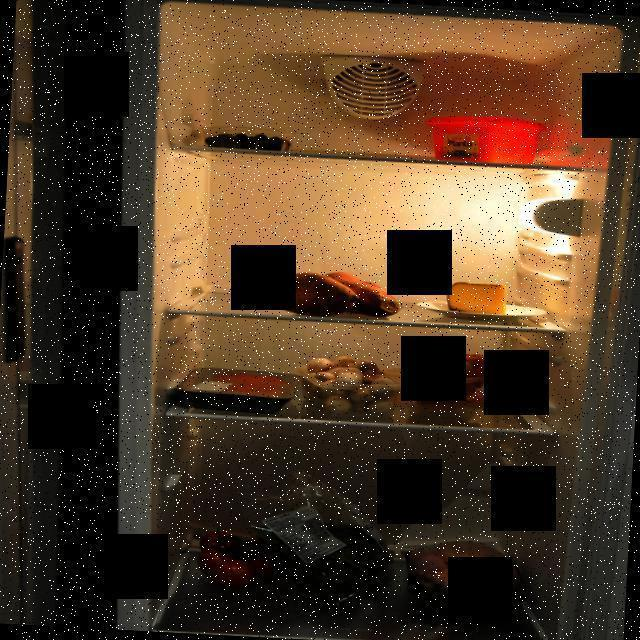beef: (202, 366, 288, 406)
blueberries: (196, 124, 298, 152)
butter: (426, 114, 554, 166)
cheese: (445, 278, 512, 320)
chicken: (401, 534, 531, 620)
mushrooms: (294, 354, 409, 424)
onion: (402, 348, 494, 406)
spinach: (235, 497, 398, 614)
sweet_potato: (264, 266, 408, 326)
tomato: (195, 522, 297, 594)
